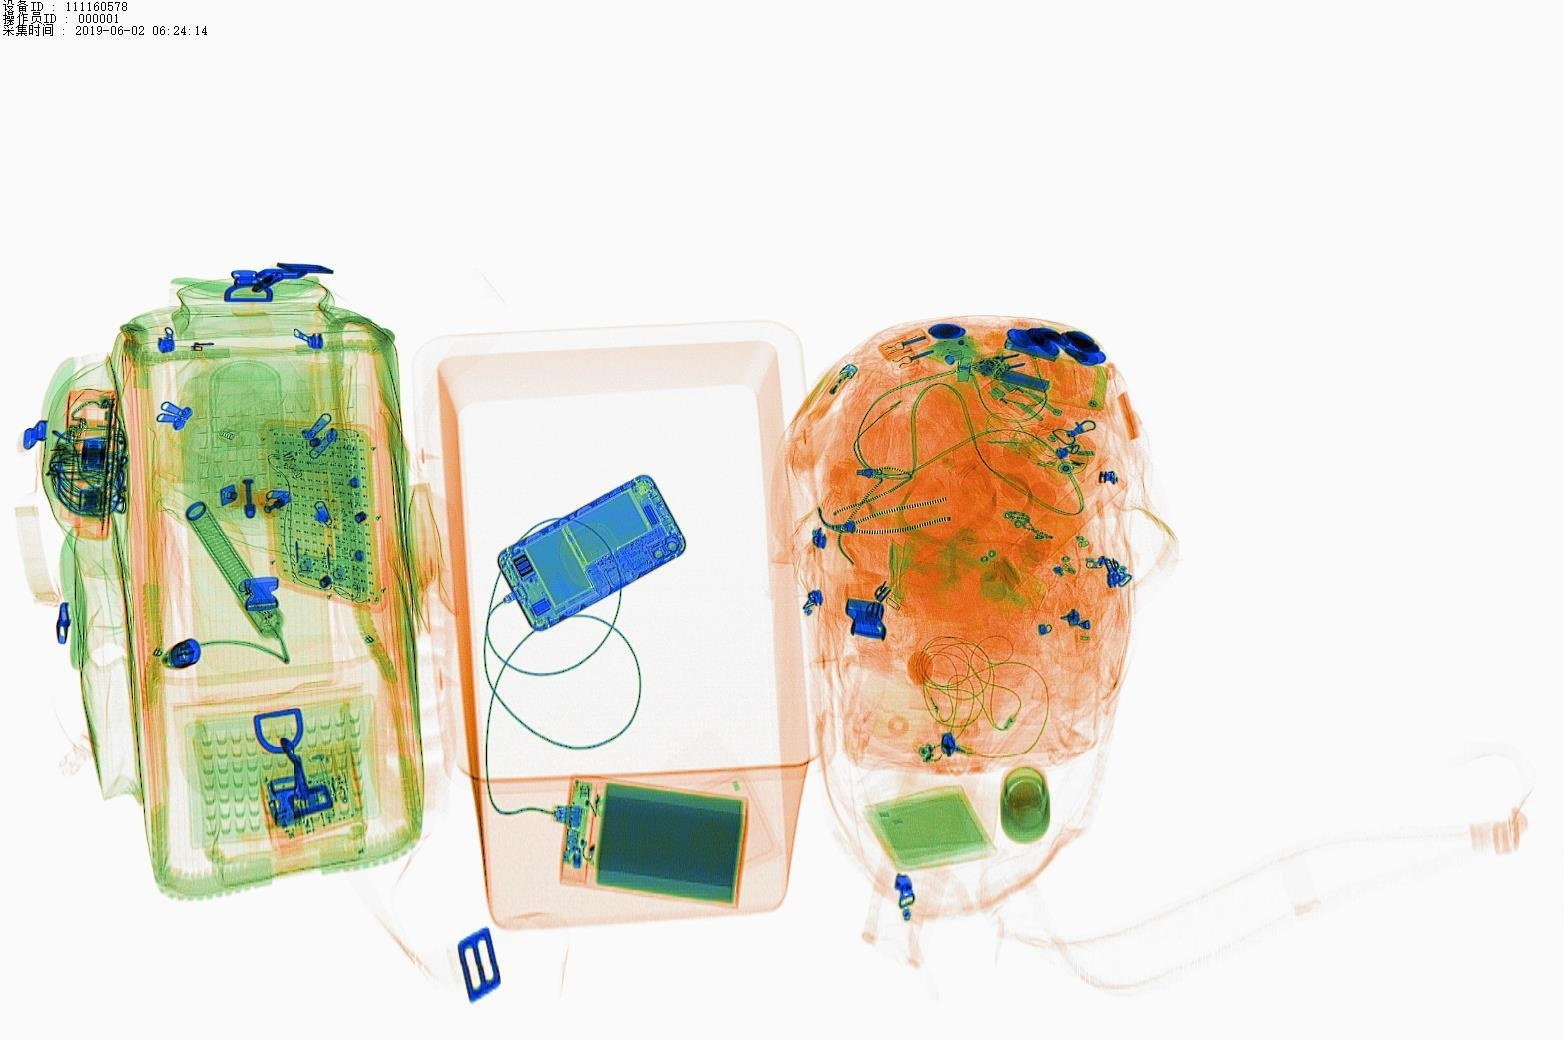NonmetallicFire: (795, 355, 864, 429)
